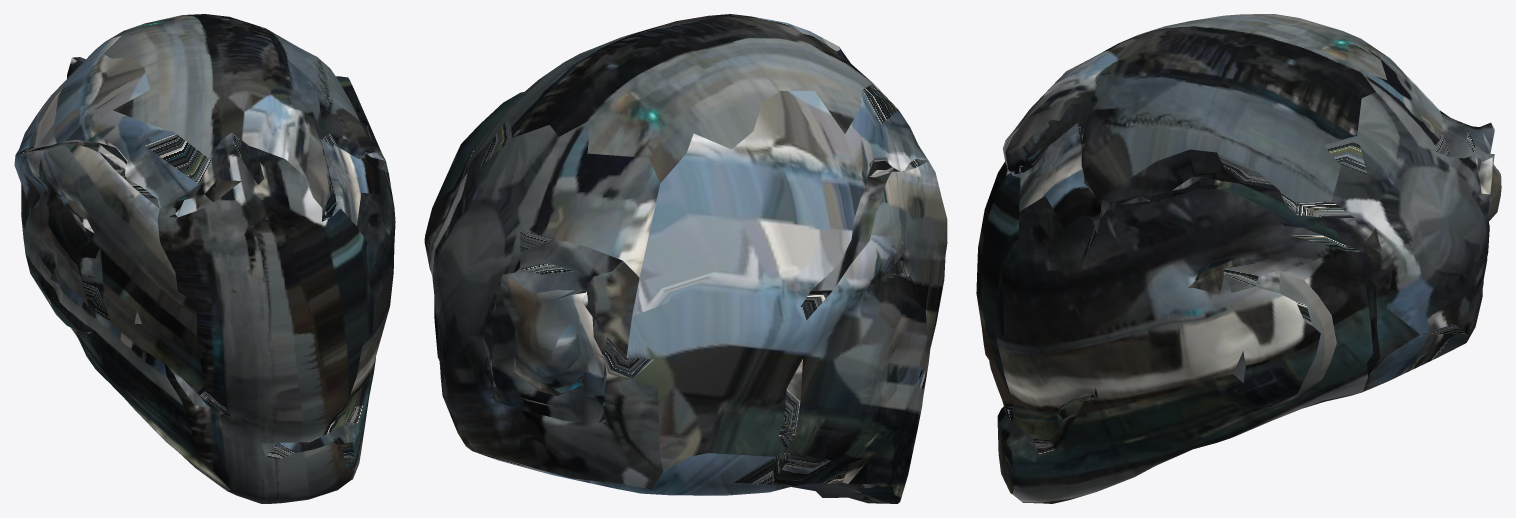
The model's file is helmet_space_01.dae.
3 views of the same model, side by side, from view 1: azimuth 30°, elevation 25°; view 2: azimuth 150°, elevation 25°; view 3: azimuth 270°, elevation 25° (orthographic). The views are drawn at different scales.
Parts seen in each view (by area): view 1: helmet_space_1; view 2: helmet_space_1; view 3: helmet_space_1.
Part boxes in pixels (x1,y1,x2,y2): helmet_space_1: (14,14,395,503); helmet_space_1: (424,14,947,503); helmet_space_1: (976,14,1501,503).
Size of the model in its own units: 0.5165 by 0.6486 by 0.6104.
